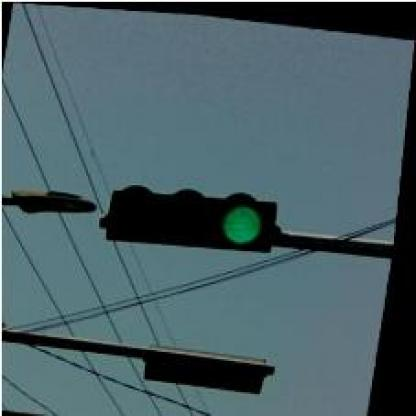green: (103, 176, 282, 256)
